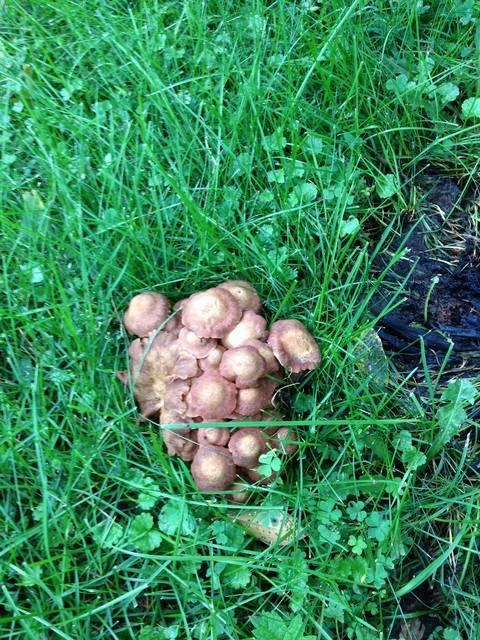Edible Mushroom: (118, 278, 321, 501)
